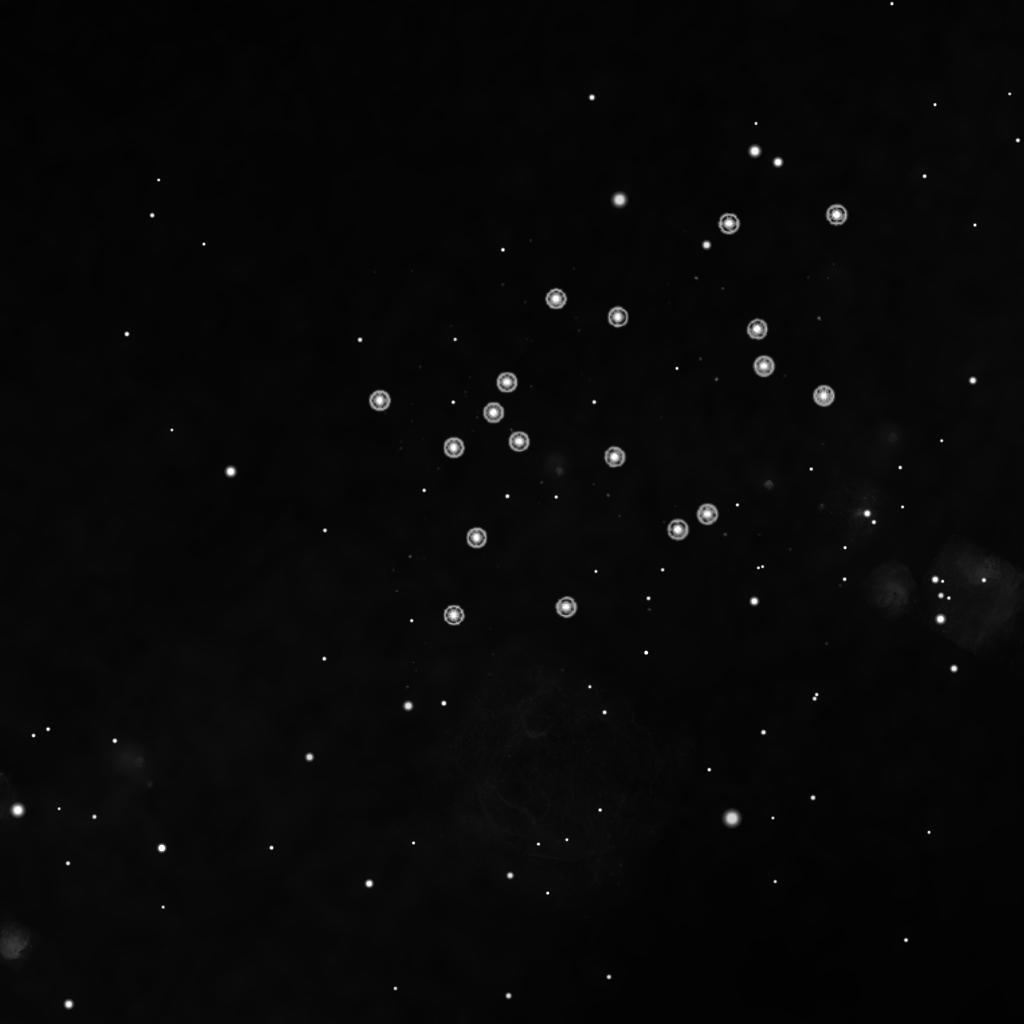canis_major: (438, 283, 636, 464)
